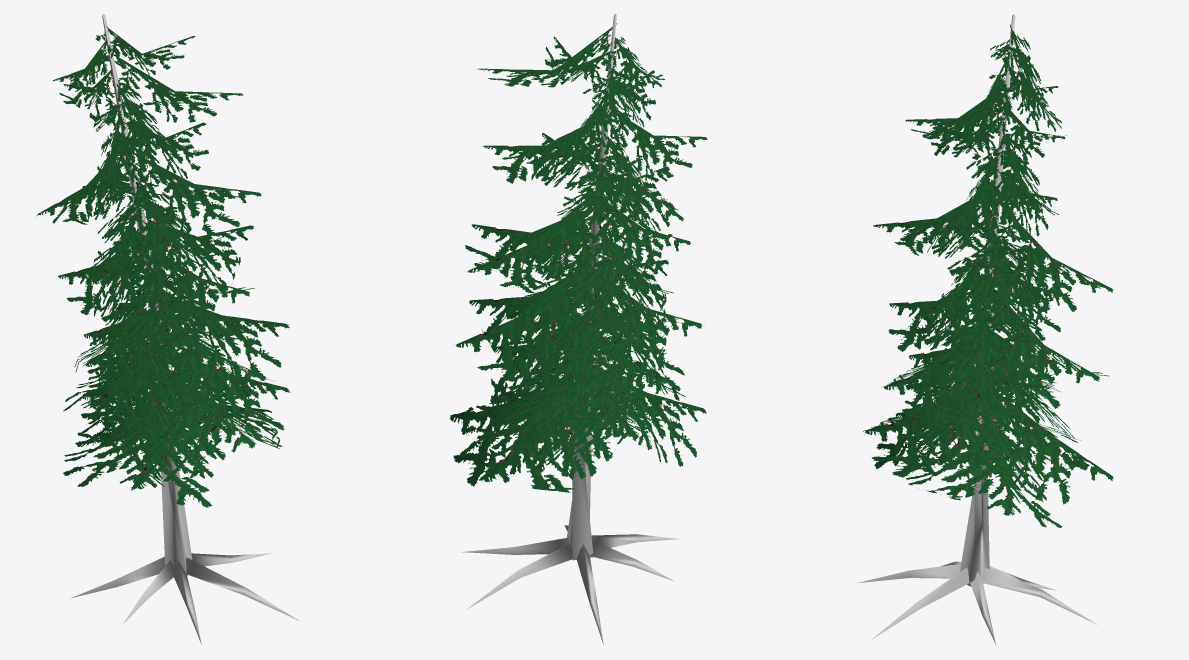
File: Pine_5_LOD2.fbx
3 views of the same model, side by side, from view 1: azimuth 30°, elevation 25°; view 2: azimuth 150°, elevation 25°; view 3: azimuth 270°, elevation 25° (orthographic). The views are drawn at different scales.
Parts seen in each view (by area): view 1: Tree_1, Tree_0; view 2: Tree_1, Tree_0; view 3: Tree_1, Tree_0.
Part boxes in pixels (x1=…): Tree_1: x1=36, y1=26, x2=290, y2=507; Tree_0: x1=70, y1=14, x2=299, y2=644; Tree_1: x1=450, y1=23, x2=707, y2=492; Tree_0: x1=461, y1=14, x2=678, y2=644; Tree_1: x1=863, y1=24, x2=1114, y2=527; Tree_0: x1=858, y1=14, x2=1096, y2=644.
Size of the model in its own units: 155 by 306 by 178.
